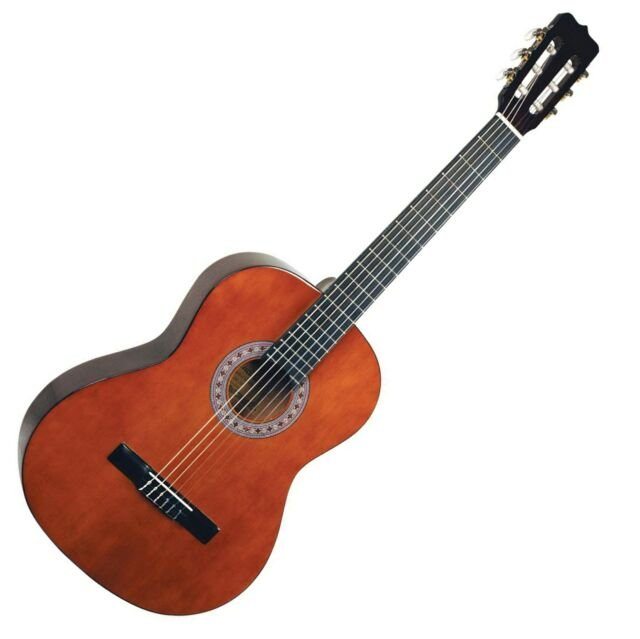guitar: (2, 64, 624, 625), (175, 10, 600, 502)
